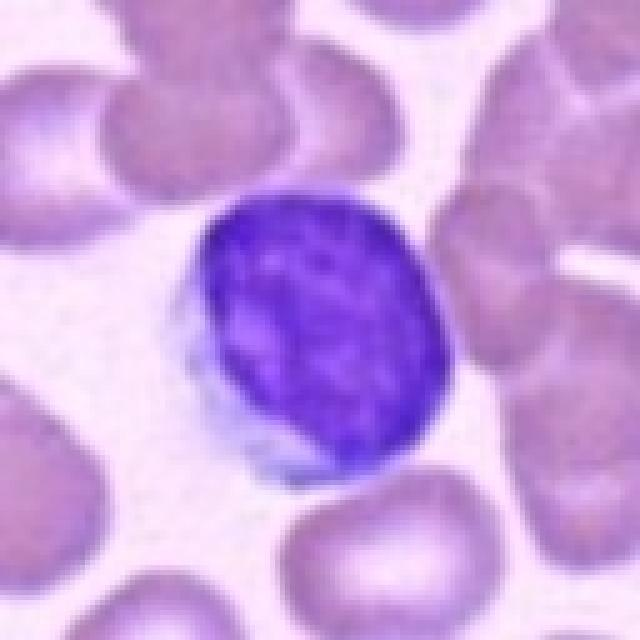lympho: (161, 183, 461, 491)
